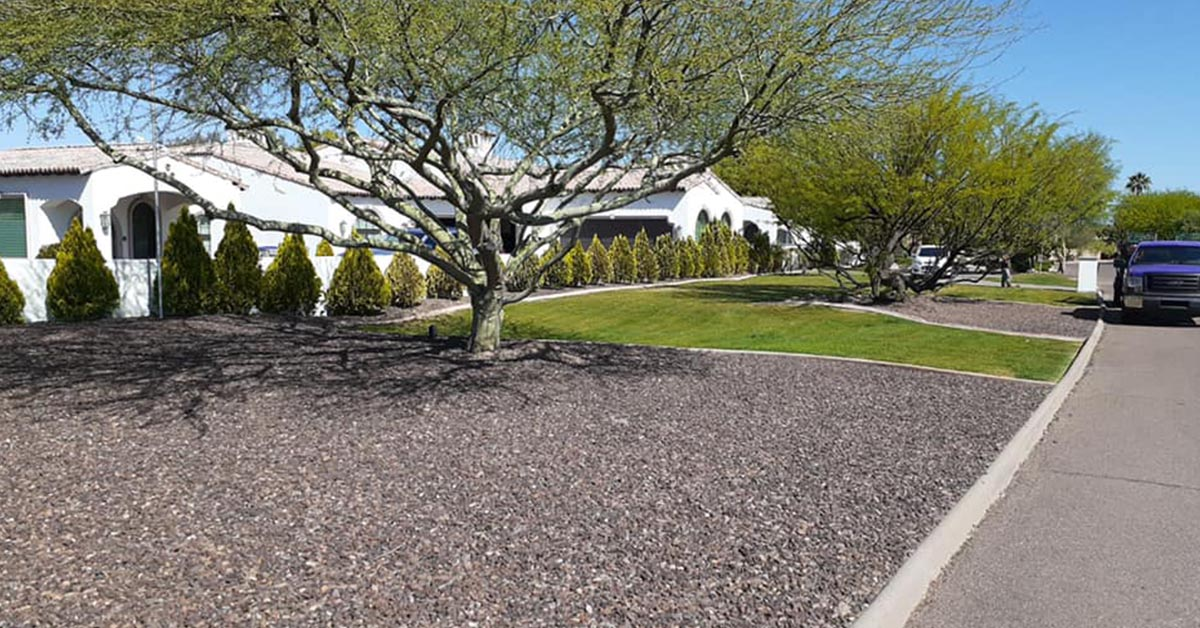grass: (502, 287, 1086, 394)
rock: (2, 328, 1051, 625)
tree: (430, 209, 537, 354), (850, 233, 946, 307)
